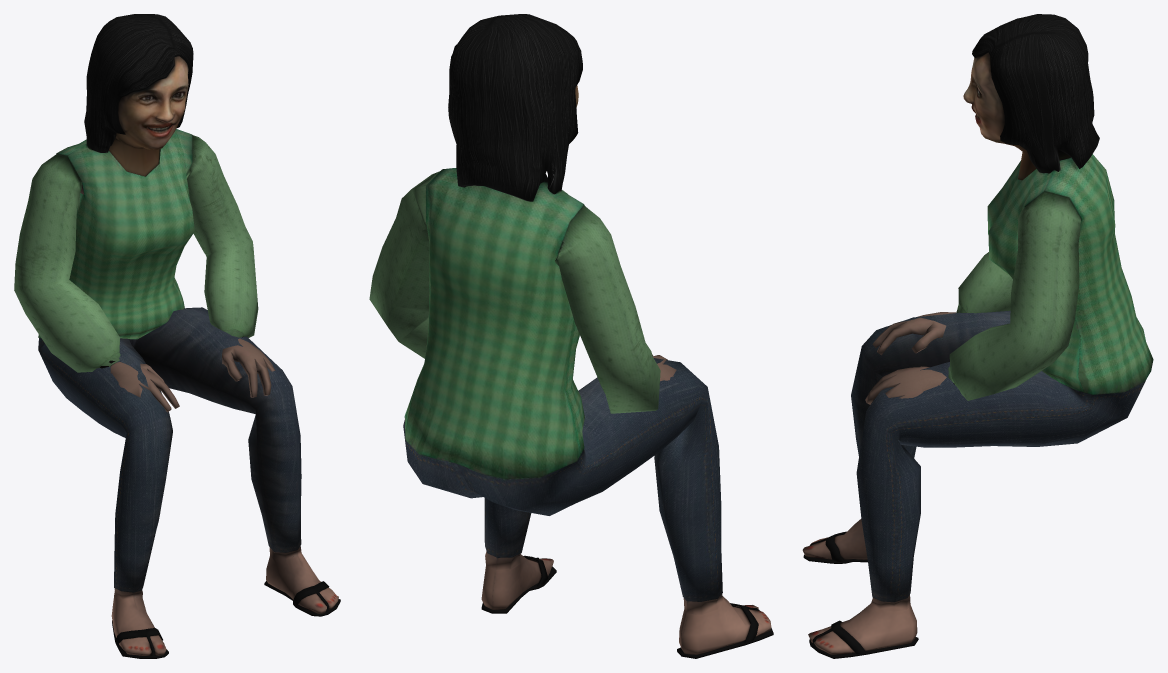
The model's file is neha_sitting.glb.
The picture shows the model from 3 angles, left to right: view 1: azimuth 30°, elevation 25°; view 2: azimuth 150°, elevation 25°; view 3: azimuth 270°, elevation 25°; orthographic projection. The views are drawn at different scales.
Visible parts, largest first — view 1: head_low.001; view 2: head_low.001; view 3: head_low.001.
Boxes of the visible parts, <box> form: head_low.001: <box>14,14,340,658</box>; head_low.001: <box>369,14,773,658</box>; head_low.001: <box>802,14,1153,658</box>.
Size of the model in its own units: 0.6334 by 1.42 by 0.7773.
Materials: 2 (2 with a texture image).
